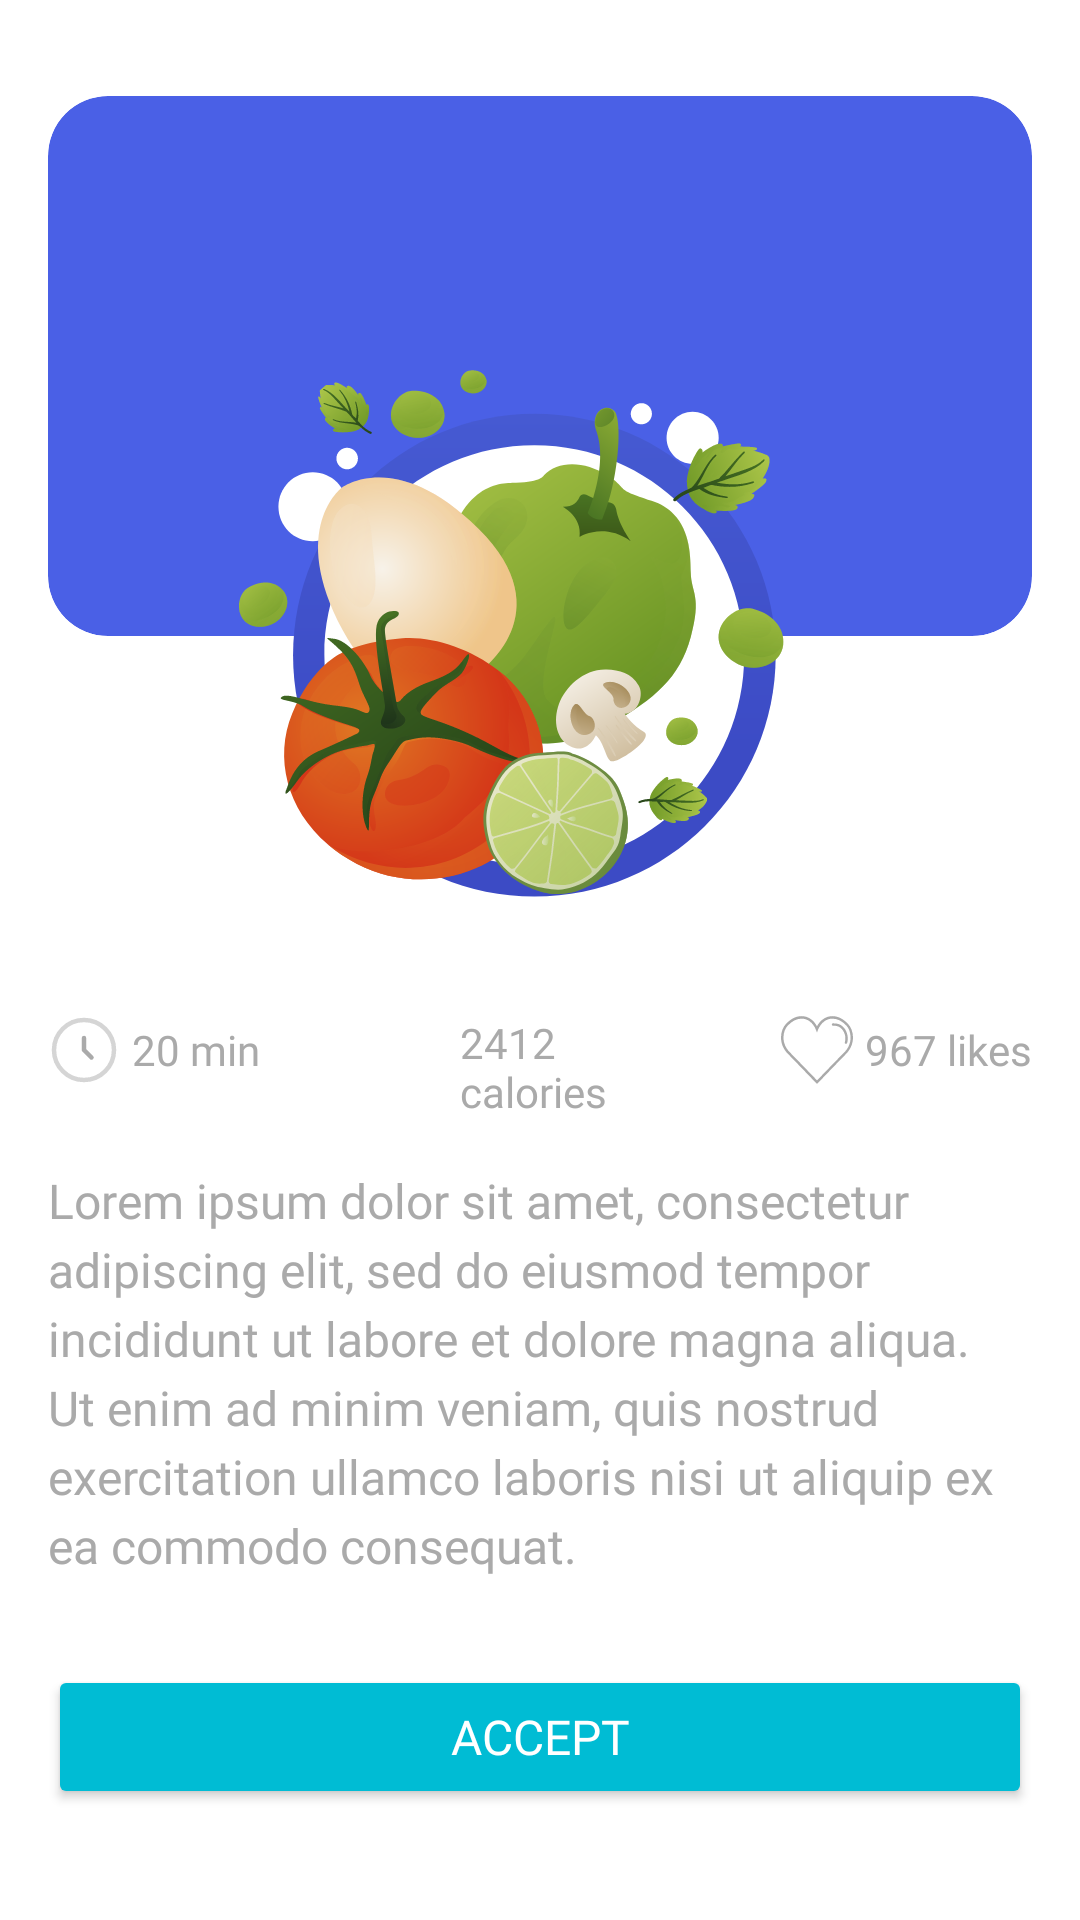

Screen size 1080px×1920px. Icon name, then its box in pixels as (x1, y1, x2, y2):
heart: (781, 1016, 853, 1084)
time: (52, 1018, 116, 1082)
